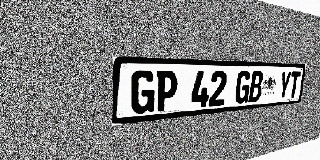2: (208, 71, 227, 107)
4: (191, 71, 211, 108)
B: (248, 71, 264, 103)
G: (130, 70, 156, 115), (234, 71, 251, 104)
P: (155, 70, 178, 112)
T: (288, 71, 301, 99)
Y: (278, 71, 292, 100)
